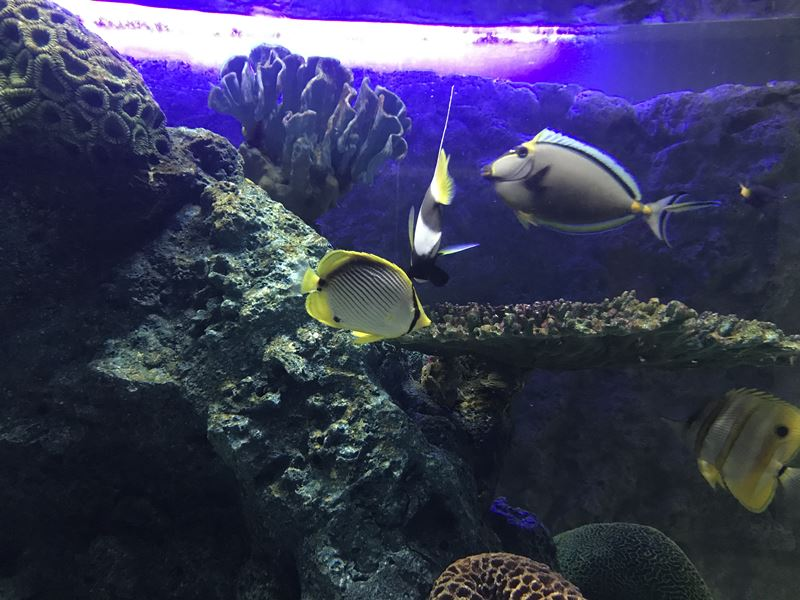Black-backed butterflyfish: (282, 244, 438, 353)
